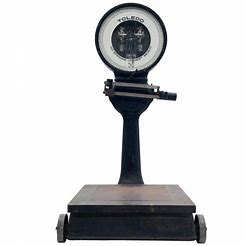Industrial Scale: (54, 2, 209, 246)
